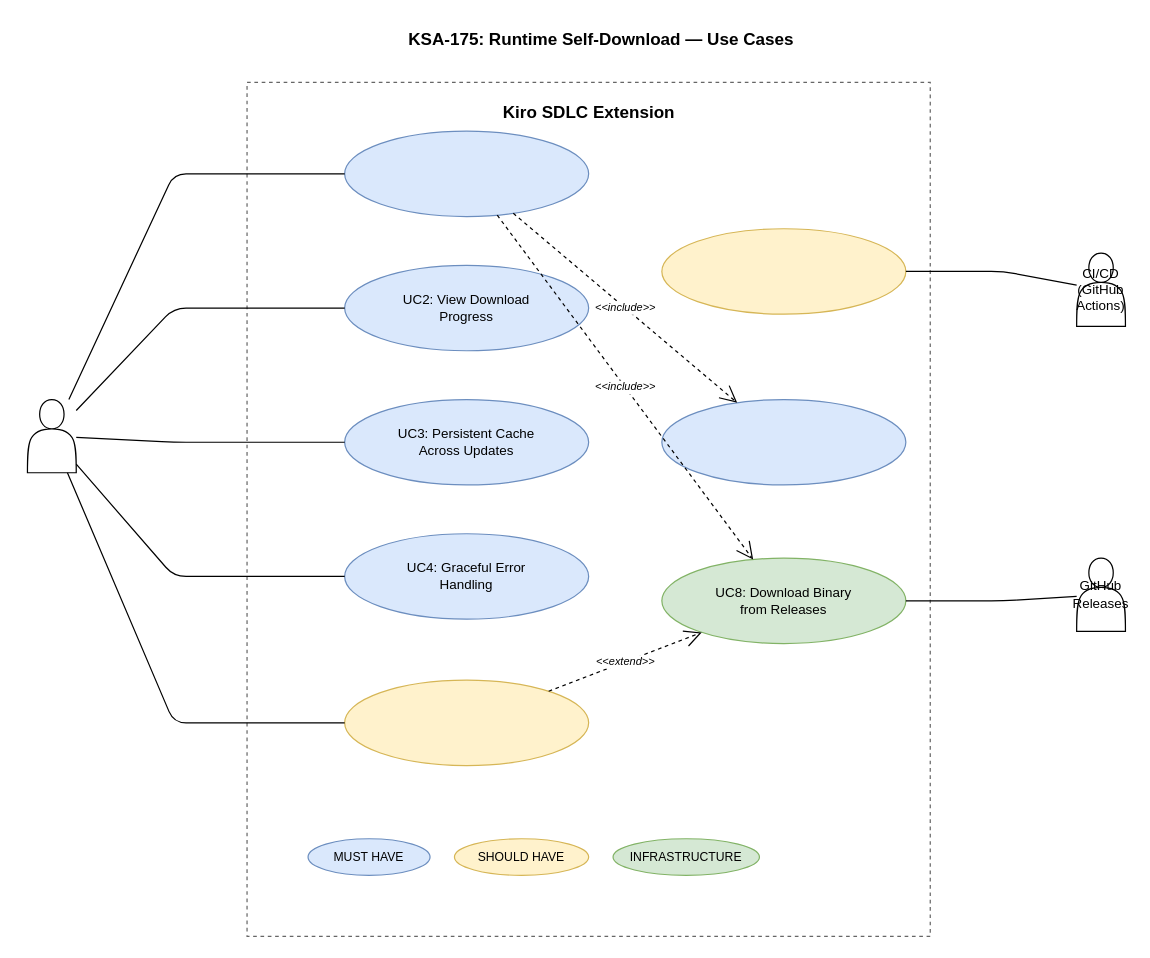
This 1150x958 diagram has some shape labels left out. The shapes that lost their labels are listed below. From the top down, each one's box as (x1, y1, x2, y2) in pixels, then its label:
(343, 130, 589, 217): UC1: Install & Activate (Zero-Config)
(661, 228, 906, 314): UC5: Build Prebuilt Binaries (CI)
(26, 398, 76, 473): Developer
(661, 398, 906, 485): UC6: Detect Electron ABI Version
(343, 679, 589, 766): UC7: Proxy-Aware Download
